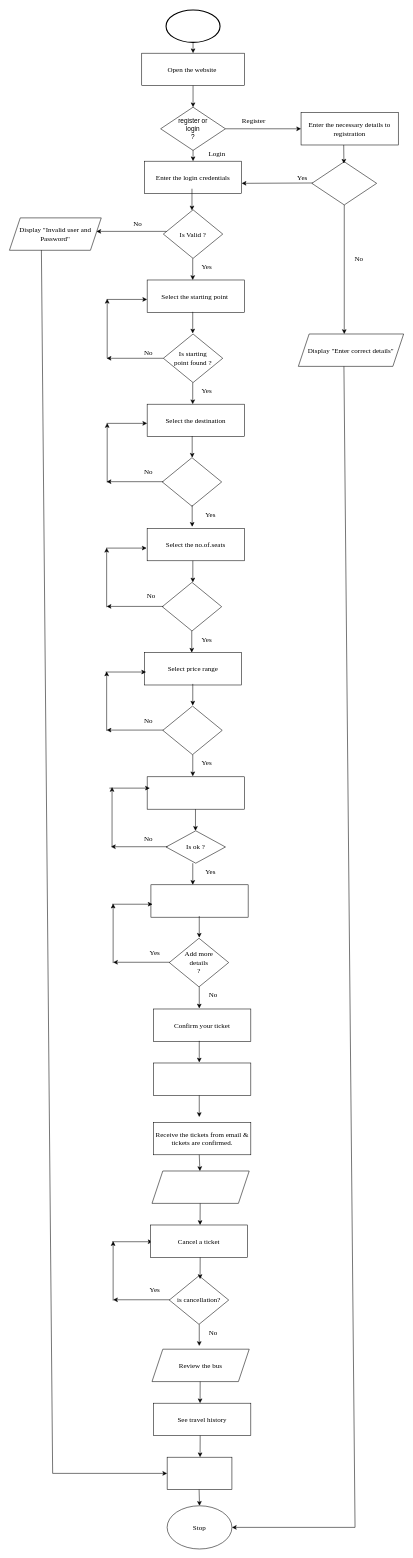
This 413x1558 diagram has some shape labels left out. Here are the shapes that lost their labels. From the top down, the box of each, then its label:
(165, 9, 220, 43): Start
(311, 161, 377, 205): Is correct ?
(162, 457, 222, 506): Is destination found ?
(162, 582, 222, 631): if seat is available ?
(162, 706, 222, 755): Is it ok ?
(147, 776, 244, 809): Select Travel Time
(150, 884, 248, 917): Enter the passenger details
(153, 1062, 251, 1095): Pay amount through online
(151, 1170, 249, 1203): Display "tickets booked successfully".
(167, 1457, 232, 1490): Logout
